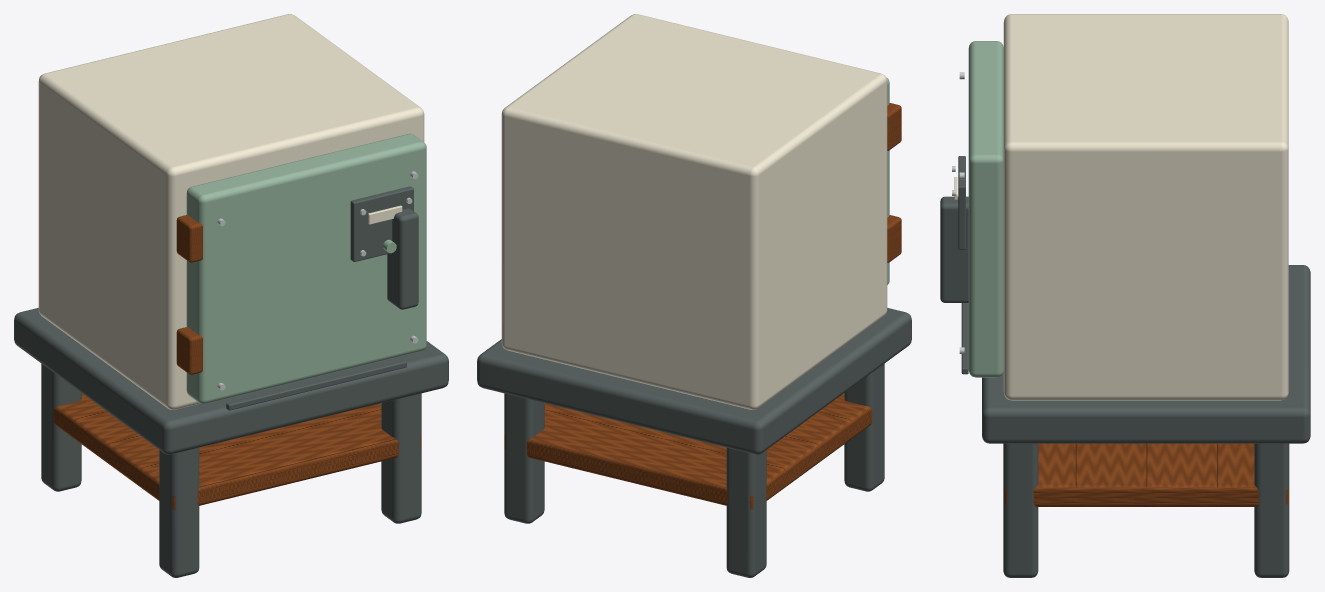
File: ceramics-pottery-studio-front-loading-test-kiln-80b00258__29485.glb
The picture shows the model from 3 angles, left to right: view 1: azimuth 30°, elevation 25°; view 2: azimuth 150°, elevation 25°; view 3: azimuth 270°, elevation 25°; orthographic projection. The views are drawn at different scales.
Parts seen in each view (by area): view 1: front-loading-test-kiln; view 2: front-loading-test-kiln; view 3: front-loading-test-kiln.
Part boxes in pixels (x1=…): front-loading-test-kiln: x1=14, y1=14, x2=448, y2=577; front-loading-test-kiln: x1=477, y1=14, x2=911, y2=577; front-loading-test-kiln: x1=940, y1=14, x2=1310, y2=577.
Size of the model in its own units: 0.8001 by 1.1 by 0.845.
5 materials, 1 textured.
